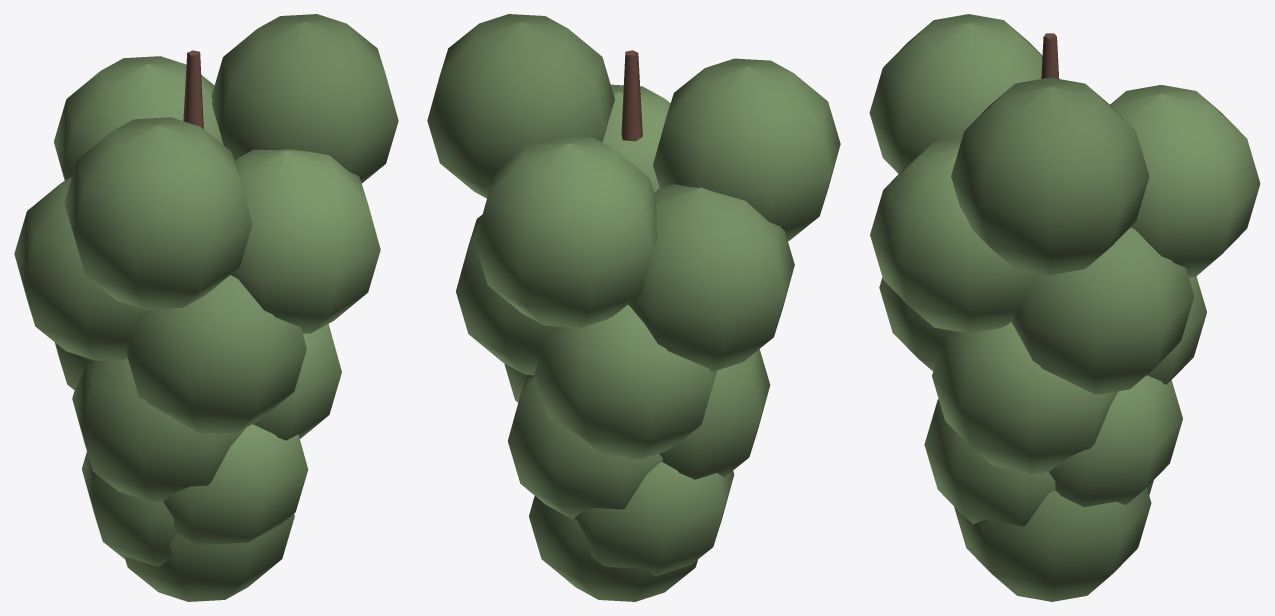
File: fruit-grape-unripe.gltf
3 renders of one model, left to right at view 1: azimuth 30°, elevation 25°; view 2: azimuth 150°, elevation 25°; view 3: azimuth 270°, elevation 25°, orthographic. The views are drawn at different scales.
Bounding box in the file's own units: 0.2843 × 0.4167 × 0.2647.
